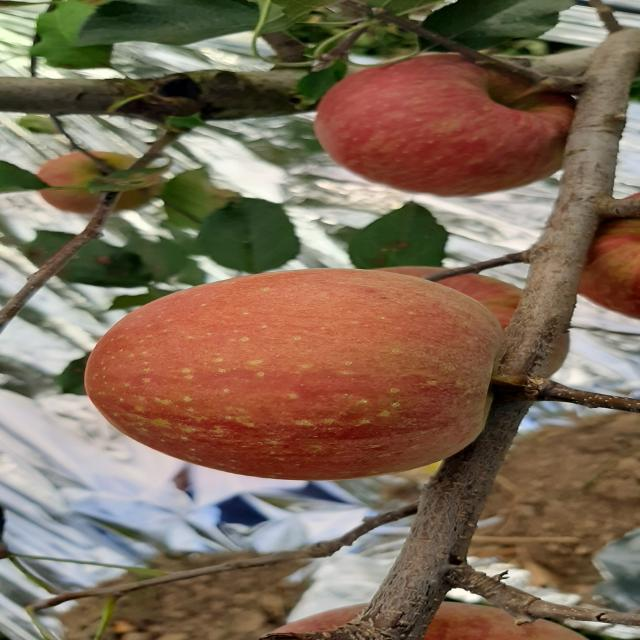fresh: (64, 260, 518, 484), (305, 50, 595, 199)
